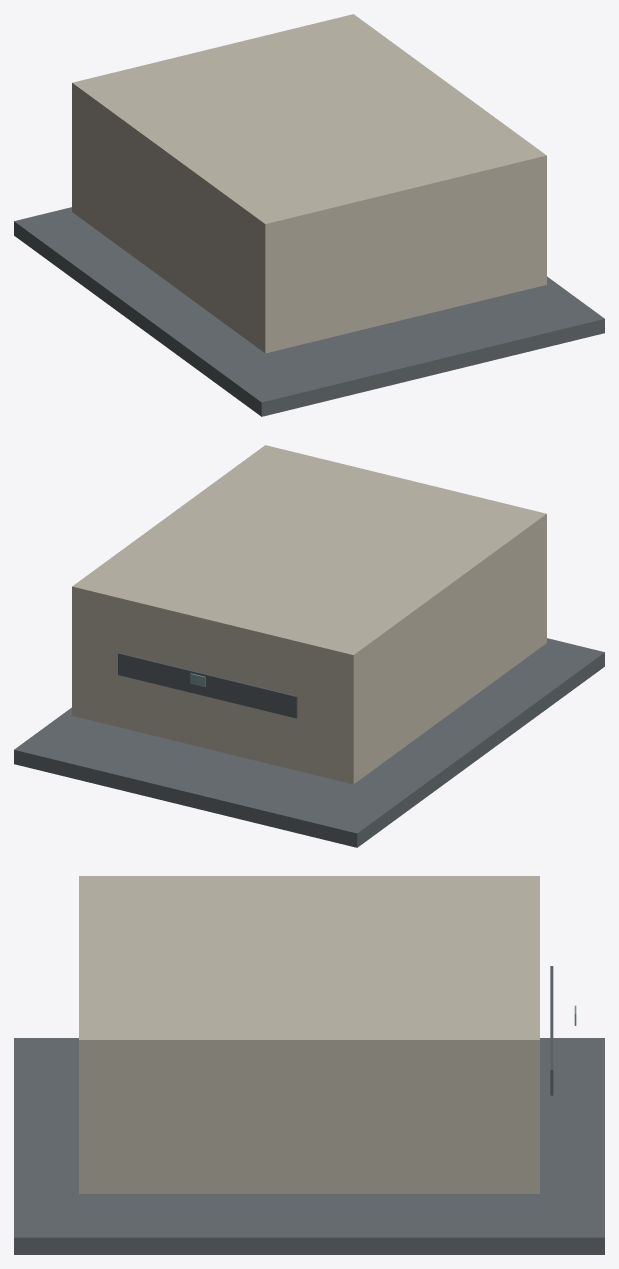
Rendered from iz3_school_gym_01.glb.
3 renders of one model, top to bottom at view 1: azimuth 30°, elevation 25°; view 2: azimuth 150°, elevation 25°; view 3: azimuth 270°, elevation 25°, orthographic. The views are drawn at different scales.
Parts seen in each view (by area): view 1: cabinet, base; view 2: cabinet, base, panel; view 3: cabinet, base, panel.
Part boxes in pixels (x1=…): cabinet: x1=72, y1=14, x2=546, y2=353; base: x1=14, y1=207, x2=604, y2=416; cabinet: x1=72, y1=445, x2=546, y2=784; base: x1=14, y1=638, x2=604, y2=847; panel: x1=118, y1=652, x2=297, y2=718; cabinet: x1=79, y1=876, x2=539, y2=1193; base: x1=14, y1=1038, x2=604, y2=1254; panel: x1=550, y1=966, x2=553, y2=1095.
Size of the model in its own units: 8 by 3.68 by 10.
